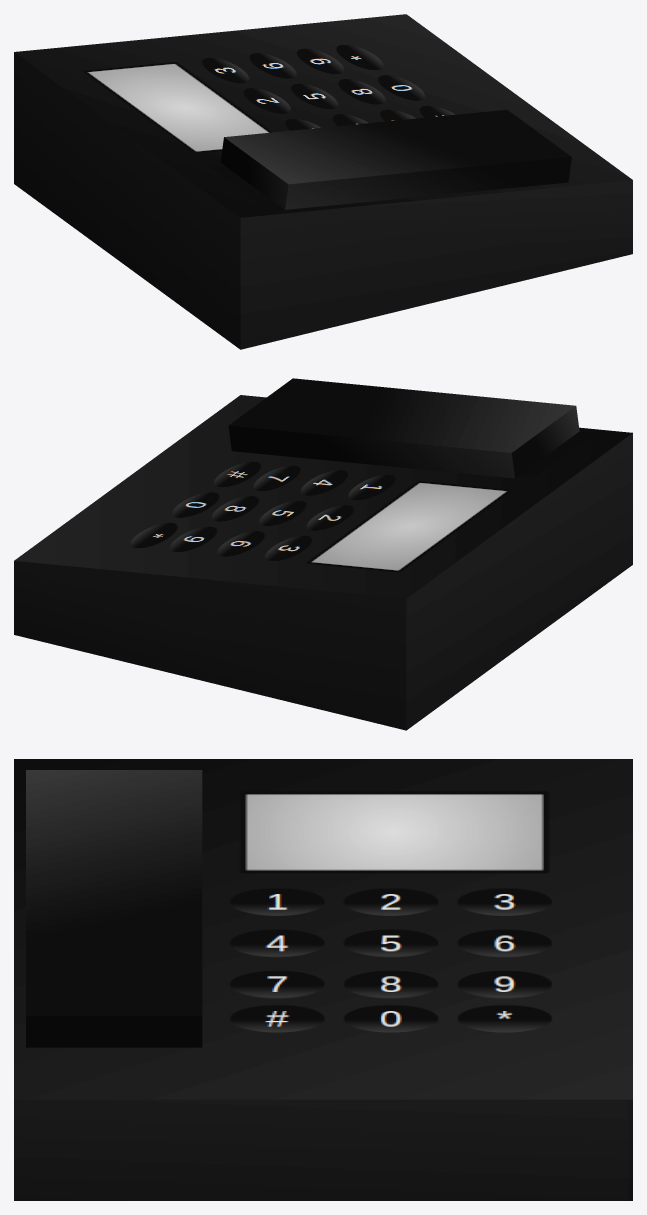
Rendered from telefono.obj.
The picture shows the model from 3 angles, top to bottom: view 1: azimuth 30°, elevation 25°; view 2: azimuth 150°, elevation 25°; view 3: azimuth 270°, elevation 25°; orthographic projection. The views are drawn at different scales.
Parts seen in each view (by area): view 1: Telefono; view 2: Telefono; view 3: Telefono.
Boxes of the visible parts, x1,y1,x2,y2 form: Telefono: (14,14,632,349); Telefono: (14,378,632,730); Telefono: (14,759,632,1200).
Size of the model in its own units: 2 by 0.728 by 2.
